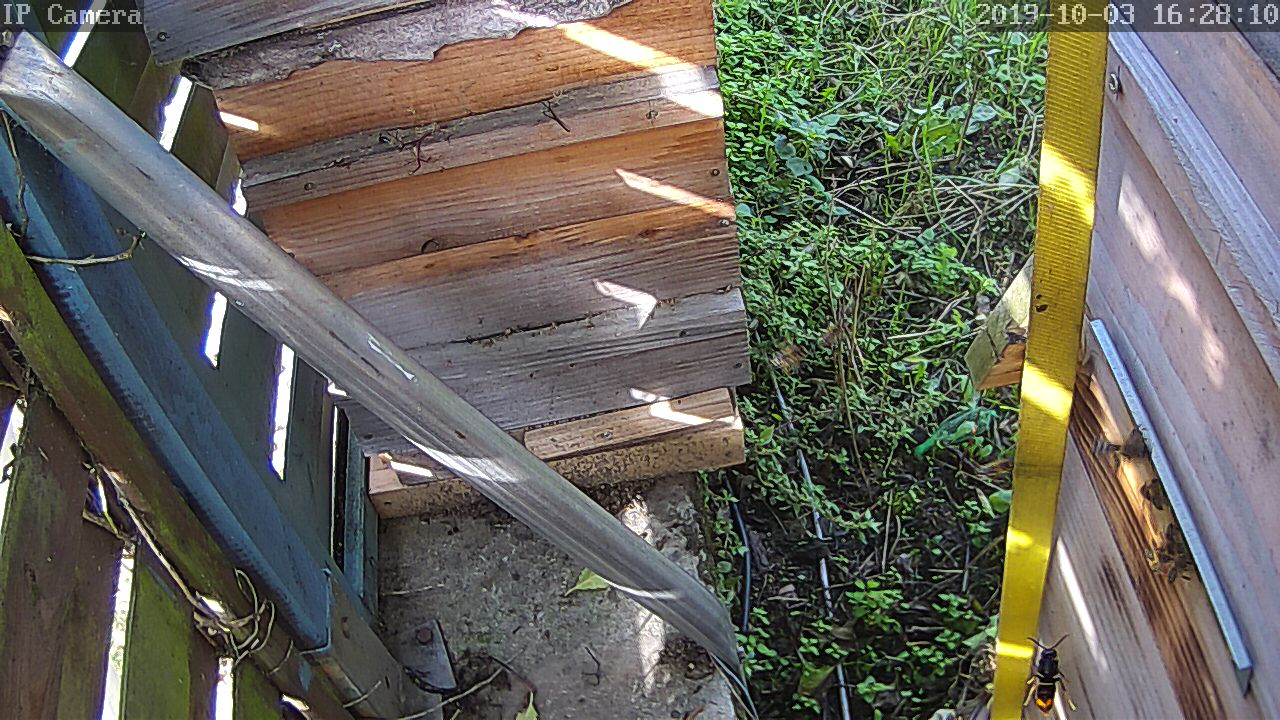bee: (1143, 528, 1196, 583), (1093, 426, 1132, 465), (1138, 473, 1172, 516)
hornet: (1013, 637, 1074, 717)
